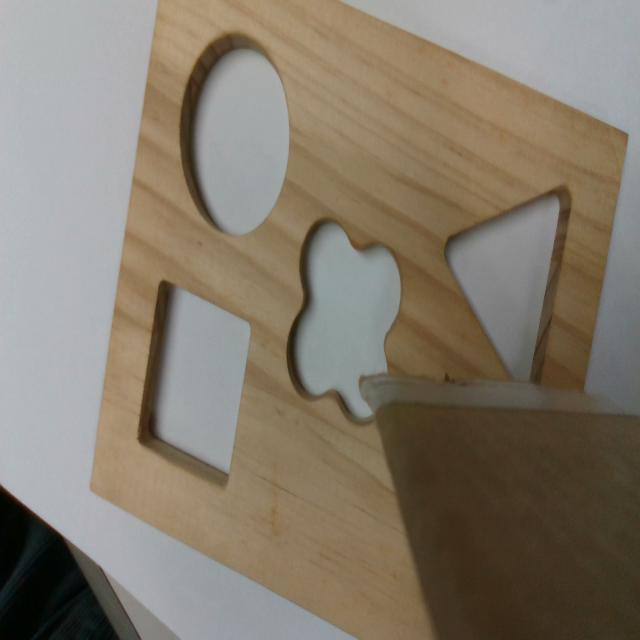circle: (183, 31, 291, 239)
flower: (285, 218, 402, 421)
square: (133, 279, 251, 485)
triangle: (444, 181, 572, 384)
